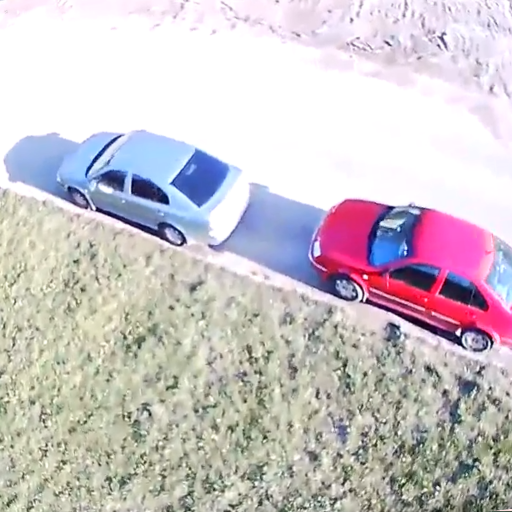Car: (309, 198, 507, 350), (54, 130, 250, 252)
